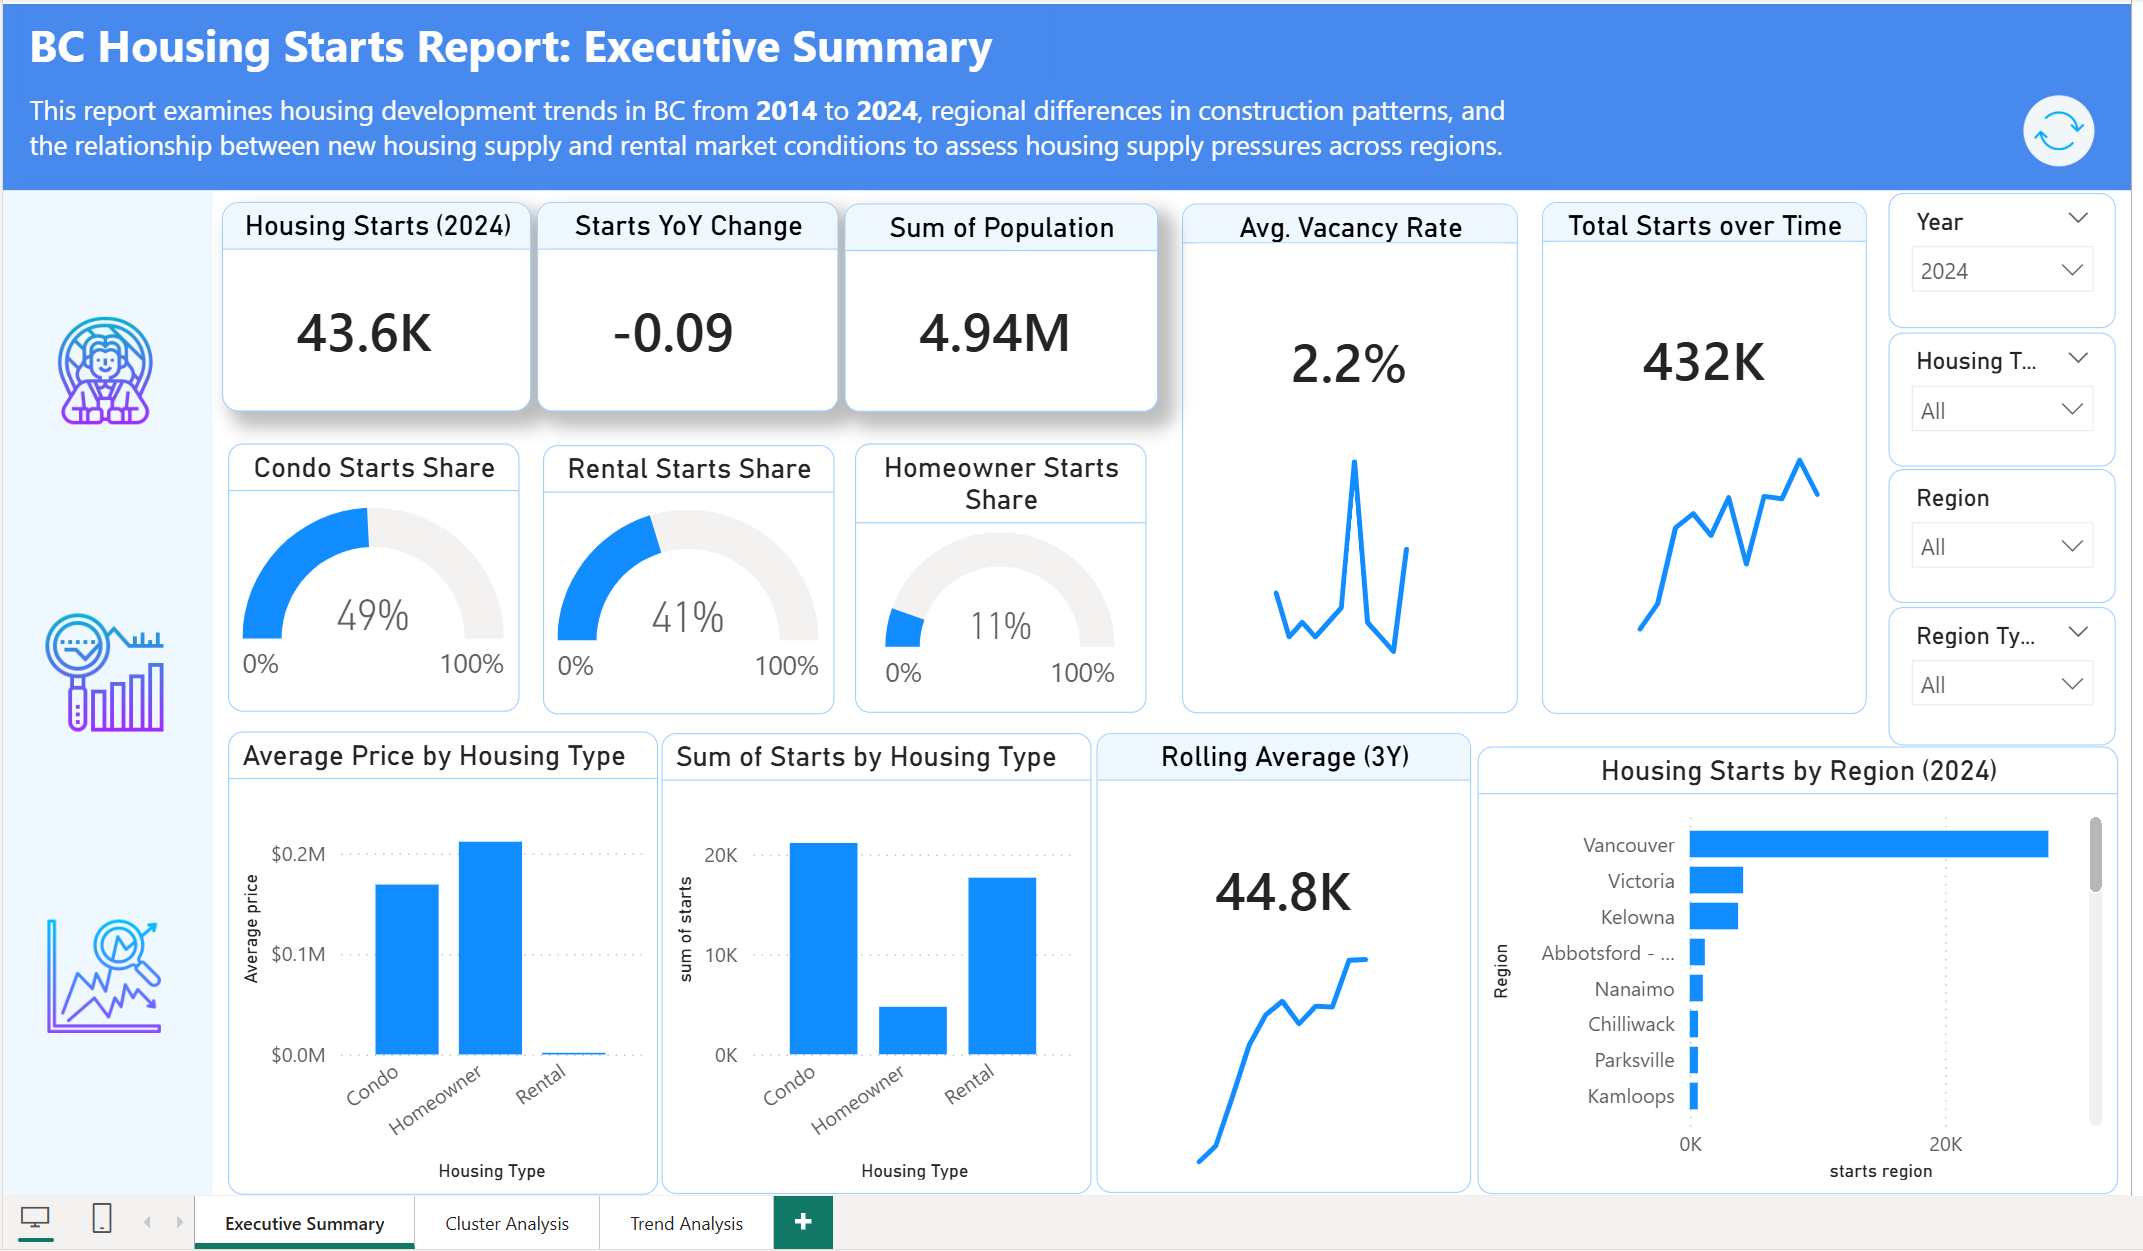

This screenshot's page, from the dashboard's own definition file:
{"tool":"powerbi","page":{"name":"Executive Summary","canvas":[1280,720],"ordinal":0},"visuals":[{"type":"group","id":"g1","title":"Group 6","box":[0,4,1280,112.4],"z":0,"group":"g2"},{"type":"cardVisual","title":"Housing Starts (2024)","fields":{"Data":["Measures Table.sum of starts"]},"box":[131.9,122.9,186.1,126.3],"z":0},{"type":"image","box":[26,540.5,69.6,95.7],"z":0,"group":"g6"},{"type":"image","box":[1215.7,53.4,42.7,53.4],"z":1000,"group":"g2"},{"type":"cardVisual","title":"Starts YoY Change","fields":{"Data":["Measures Table.Starts YoY Change (%)"]},"box":[321.4,122.9,181.6,126.3],"z":1000},{"type":"actionButton","box":[16.4,535.1,83.5,106.8],"z":1000,"group":"g6"},{"type":"gauge","title":"Condo Starts Share","fields":{"Y":["Measures Table.% condo starts"]},"box":[135.5,268.3,175.2,161.5],"z":2000},{"type":"cardVisual","title":"Total Starts over Time","fields":{"Data":["Measures Table.sum of starts"]},"box":[925.3,123,195.1,307.8],"z":3000,"group":"g5"},{"type":"cardVisual","title":"Avg. Vacancy Rate","fields":{"Data":["Measures Table.Average Vacancy Rate"]},"box":[709.1,123.7,202.2,306.8],"z":3000,"group":"g4"},{"type":"gauge","title":"Rental Starts Share","fields":{"Y":["Measures Table.%Rental starts"]},"box":[325,269.2,175.1,162],"z":3000},{"type":"shape","box":[0,4.1,1280,112.3],"z":4000,"group":"g1"},{"type":"gauge","title":"Homeowner Starts Share","fields":{"Y":["Measures Table.% Homeowner starts"]},"box":[512.2,268.1,175.1,162],"z":4000},{"type":"textbox","box":[10.1,4,620.6,60.3],"z":5000,"group":"g1"},{"type":"barChart","title":"Housing Starts by Region (2024)","fields":{"Category":["DimRegion.Region"],"Y":["Measures Table.starts region"]},"box":[887.1,450.6,385.2,269.5],"z":5000},{"type":"group","id":"g2","title":"Group 7","box":[0,4,1280,112.4],"z":6000},{"type":"shape","box":[0,116.4,125.9,603.7],"z":6000,"group":"g3"},{"type":"group","id":"g3","title":"Group 8","box":[0,116.4,125.9,603.7],"z":7000},{"type":"slicer","fields":{"Values":["DimHousing Type.Housing Type"]},"box":[1134.5,201.2,136.8,80.5],"z":8000},{"type":"slicer","fields":{"Values":["Date Table_.Year"]},"box":[1134.5,117.7,136.8,81.5],"z":9000},{"type":"slicer","fields":{"Values":["DimRegion.Region"]},"box":[1134.5,283.6,136.8,80.5],"z":10000},{"type":"slicer","fields":{"Values":["DimRegion Type.Region Type"]},"box":[1134.5,366.1,136.8,83.5],"z":11000},{"type":"group","id":"g4","title":"Group 4","box":[709.1,123.7,202.2,306.8],"z":12000},{"type":"group","id":"g5","title":"Group 4","box":[925.3,123,195.1,307.8],"z":13000},{"type":"clusteredColumnChart","title":"Average Price by Housing Type","fields":{"Category":["DimHousing Type.Housing Type"],"Y":["Measures Table.Average price"]},"box":[135.8,441.5,258.5,278.6],"z":14000},{"type":"group","id":"g6","title":"Group 1","box":[16.4,535.1,83.5,106.8],"z":14000,"group":"g3"},{"type":"group","id":"g7","title":"Group 2","box":[19.8,350.8,82.1,103.9],"z":15000,"group":"g3"},{"type":"clusteredColumnChart","title":"Sum of Starts by Housing Type","fields":{"Category":["DimHousing Type.Housing Type"],"Y":["Measures Table.sum of starts"]},"box":[396.3,442.4,258.5,277.6],"z":15000},{"type":"cardVisual","title":"Sum of Population","fields":{"Data":["Sum(Housing Metrics Fact Grouped.Population)"]},"box":[506.4,124.1,188.3,125.2],"z":16000},{"type":"group","id":"g8","title":"Group 3","box":[20.9,172.1,82.1,95.5],"z":16000,"group":"g3"},{"type":"image","box":[28.7,180.4,65.1,87.3],"z":16000,"group":"g8"},{"type":"image","box":[24.4,355.9,73,98.8],"z":16000,"group":"g7"},{"type":"actionButton","box":[1206.2,50.5,66,55.7],"z":17000},{"type":"lineChart","fields":{"Category":["Date Table_.Year"],"Y":["Measures Table.sum of starts"]},"box":[926.3,253.8,190.1,163.9],"z":17000,"group":"g5"},{"type":"lineChart","fields":{"Category":["Date Table_.Year"],"Y":["Measures Table.Vacancy Rate (current selection)"]},"box":[719.1,264.8,147.7,152],"z":17000,"group":"g4"},{"type":"cardVisual","title":"Rolling Average (3Y)","fields":{"Data":["Measures Table.Rolling Avg (3Y)"]},"box":[657.8,442.5,225.3,276.6],"z":17000,"group":"g9"},{"type":"actionButton","box":[19.8,350.8,82.1,99.9],"z":17003,"group":"g7"},{"type":"actionButton","box":[20.9,172.1,82.1,93.1],"z":18000,"group":"g8"},{"type":"group","id":"g9","title":"Group 5","box":[657.8,442.5,225.3,276.6],"z":18000},{"type":"lineChart","fields":{"Category":["Date Table_.Year"],"Y":["Measures Table.Rolling Avg (3Y)"]},"box":[664.2,563.1,180.3,148.9],"z":18000,"group":"g9"},{"type":"textbox","box":[11,50.7,921.3,57.5],"z":19000,"group":"g1"}]}

Visuals, with their boxes on the page's 1280x720 design canvas (x1, y1, x2, y2). These are canvas units, not pixel positions in the 2143x1251 screenshot, which may show the page scaled, cropped or inside an application window:
"Group 6" group: rect(0, 4, 1280, 116)
"Housing Starts (2024)" cardVisual: rect(132, 123, 318, 249)
image: rect(26, 540, 96, 636)
image: rect(1216, 53, 1258, 107)
"Starts YoY Change" cardVisual: rect(321, 123, 503, 249)
actionButton: rect(16, 535, 100, 642)
"Condo Starts Share" gauge: rect(136, 268, 311, 430)
"Total Starts over Time" cardVisual: rect(925, 123, 1120, 431)
"Avg. Vacancy Rate" cardVisual: rect(709, 124, 911, 430)
"Rental Starts Share" gauge: rect(325, 269, 500, 431)
shape: rect(0, 4, 1280, 116)
"Homeowner Starts Share" gauge: rect(512, 268, 687, 430)
textbox: rect(10, 4, 631, 64)
"Housing Starts by Region (2024)" barChart: rect(887, 451, 1272, 720)
"Group 7" group: rect(0, 4, 1280, 116)
shape: rect(0, 116, 126, 720)
"Group 8" group: rect(0, 116, 126, 720)
slicer - DimHousing Type.Housing Type: rect(1134, 201, 1271, 282)
slicer - Date Table_.Year: rect(1134, 118, 1271, 199)
slicer - DimRegion.Region: rect(1134, 284, 1271, 364)
slicer - DimRegion Type.Region Type: rect(1134, 366, 1271, 450)
"Group 4" group: rect(709, 124, 911, 430)
"Group 4" group: rect(925, 123, 1120, 431)
"Average Price by Housing Type" clusteredColumnChart: rect(136, 442, 394, 720)
"Group 1" group: rect(16, 535, 100, 642)
"Group 2" group: rect(20, 351, 102, 455)
"Sum of Starts by Housing Type" clusteredColumnChart: rect(396, 442, 655, 720)
"Sum of Population" cardVisual: rect(506, 124, 695, 249)
"Group 3" group: rect(21, 172, 103, 268)
image: rect(29, 180, 94, 268)
image: rect(24, 356, 97, 455)
actionButton: rect(1206, 50, 1272, 106)
lineChart - Date Table_.Year x Measures Table.sum of starts: rect(926, 254, 1116, 418)
lineChart - Date Table_.Year x Measures Table.Vacancy Rate (current selection): rect(719, 265, 867, 417)
"Rolling Average (3Y)" cardVisual: rect(658, 442, 883, 719)
actionButton: rect(20, 351, 102, 451)
actionButton: rect(21, 172, 103, 265)
"Group 5" group: rect(658, 442, 883, 719)
lineChart - Date Table_.Year x Measures Table.Rolling Avg (3Y): rect(664, 563, 844, 712)
textbox: rect(11, 51, 932, 108)
